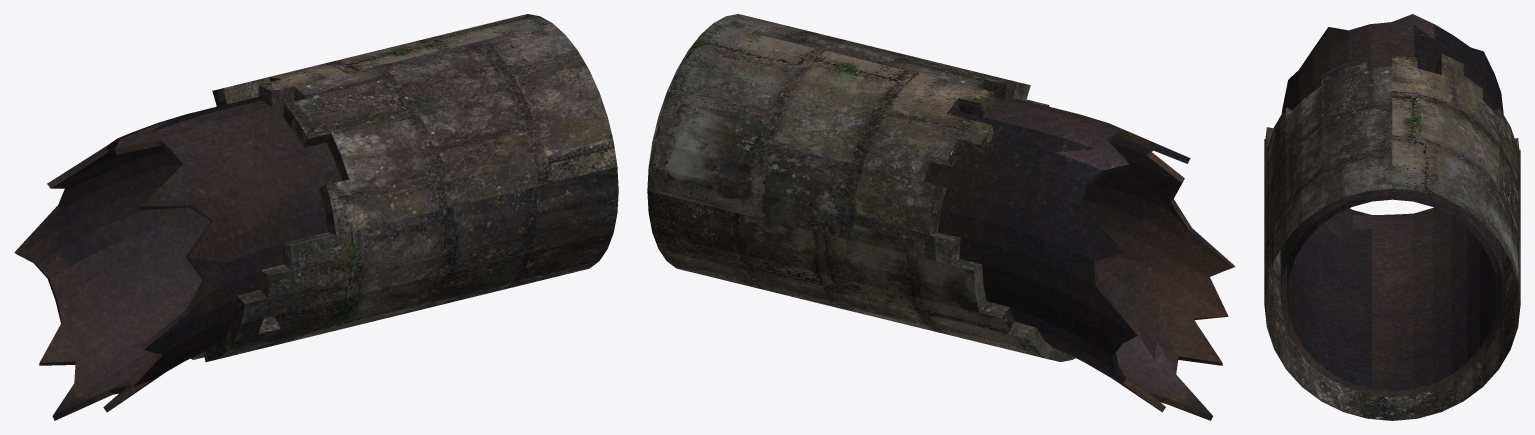
The model's file is drain.fbx.
3 views of the same model, side by side, from view 1: azimuth 30°, elevation 25°; view 2: azimuth 150°, elevation 25°; view 3: azimuth 270°, elevation 25° (orthographic). The views are drawn at different scales.
Parts seen in each view (by area): view 1: [Imported] obj2; view 2: [Imported] obj2; view 3: [Imported] obj2.
Boxes of the visible parts, box(x1,y1,x2,y2) form: [Imported] obj2: box(14, 14, 618, 420); [Imported] obj2: box(647, 14, 1235, 420); [Imported] obj2: box(1264, 14, 1520, 420).
Size of the model in its own units: 3092 by 1631 by 1409.
Materials: 2 (2 with a texture image).
